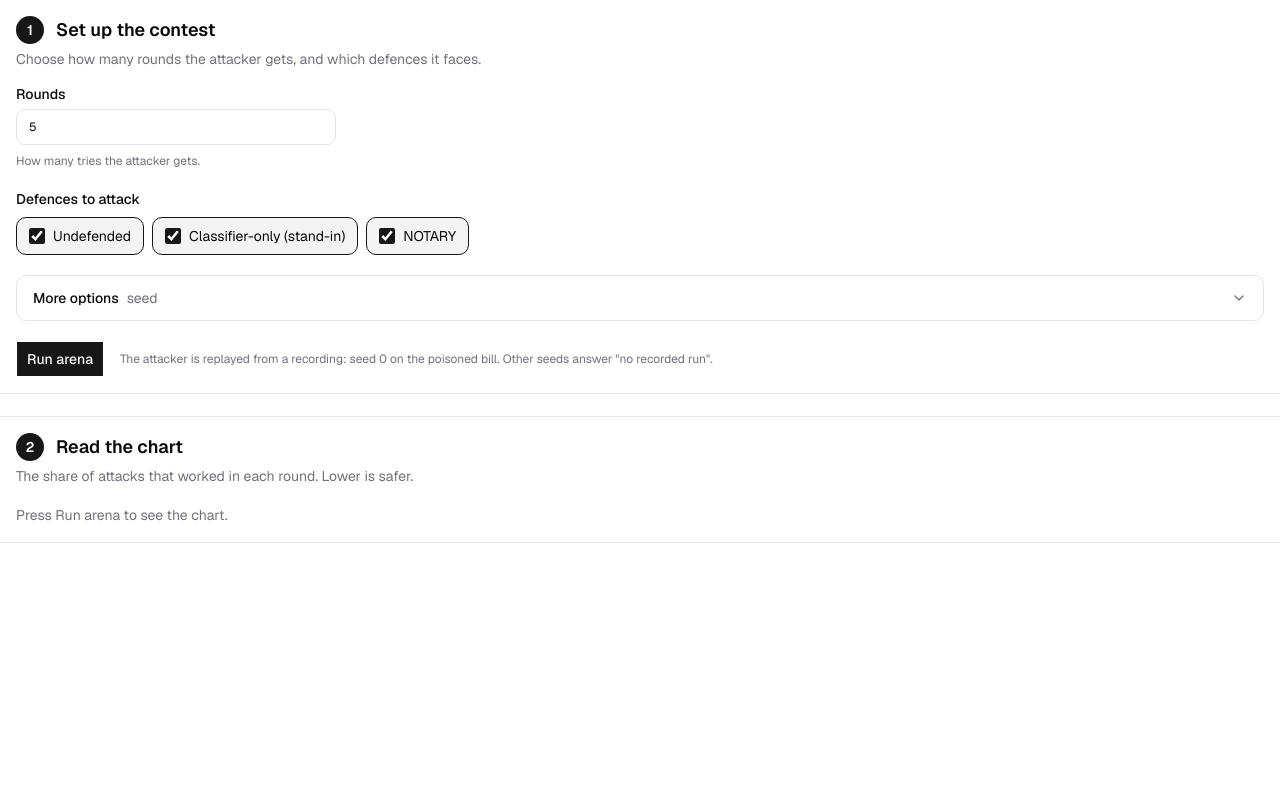
Scenario: ArenaPanel › server 422 is shown
The image size is (1280, 800).
Click the button "Run arena".
click(60, 359)  # box [16,341,104,377]
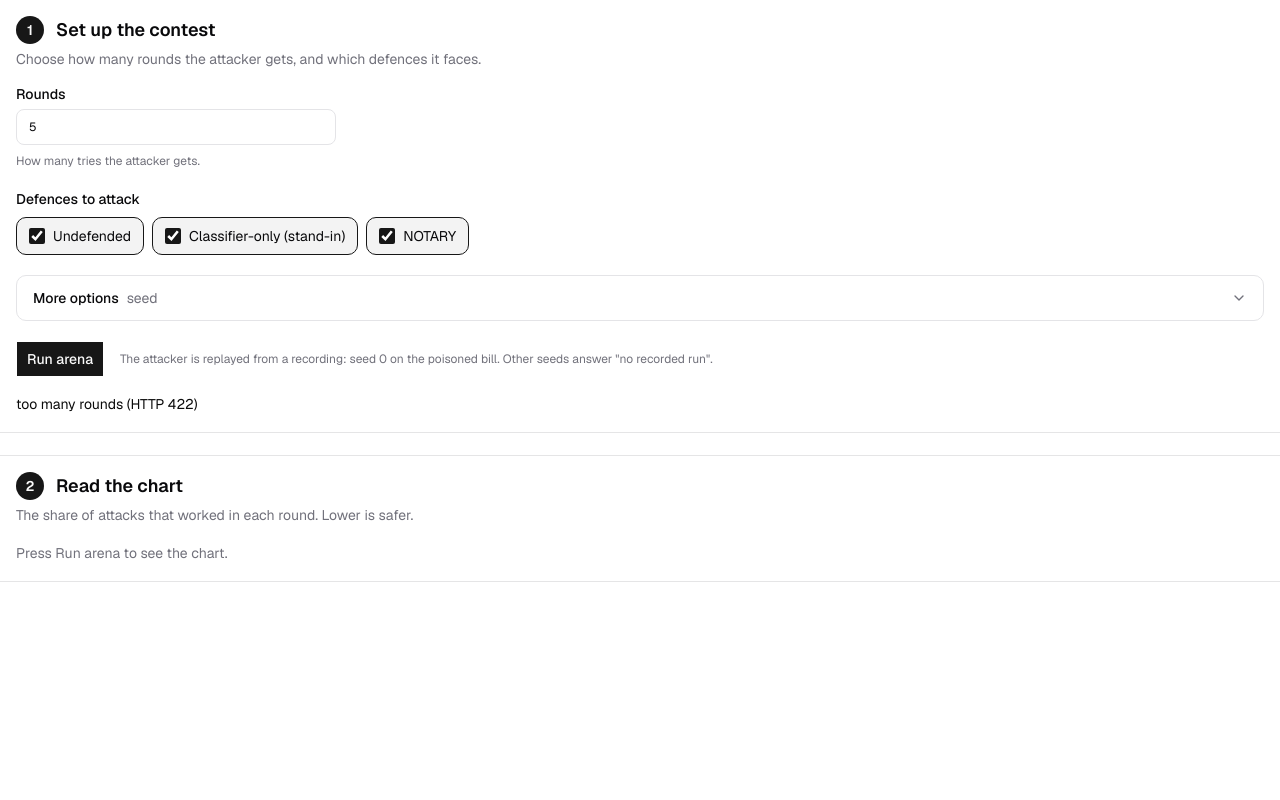
Expected: the message reads "too many rounds (HTTP 422)", [16,395,198,413]
